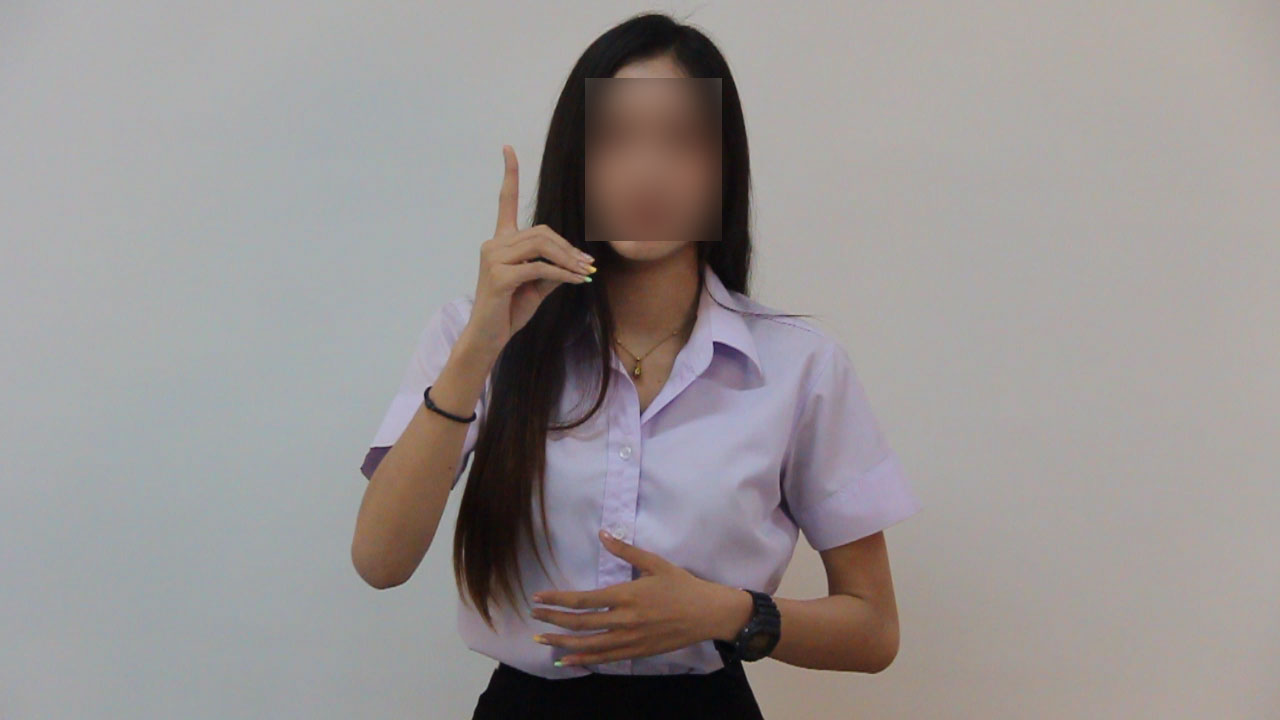dor: (451, 136, 602, 349)
